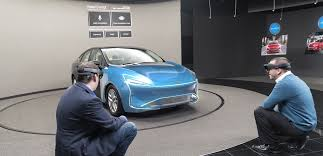hololens: (75, 66, 104, 82), (262, 62, 293, 71)
